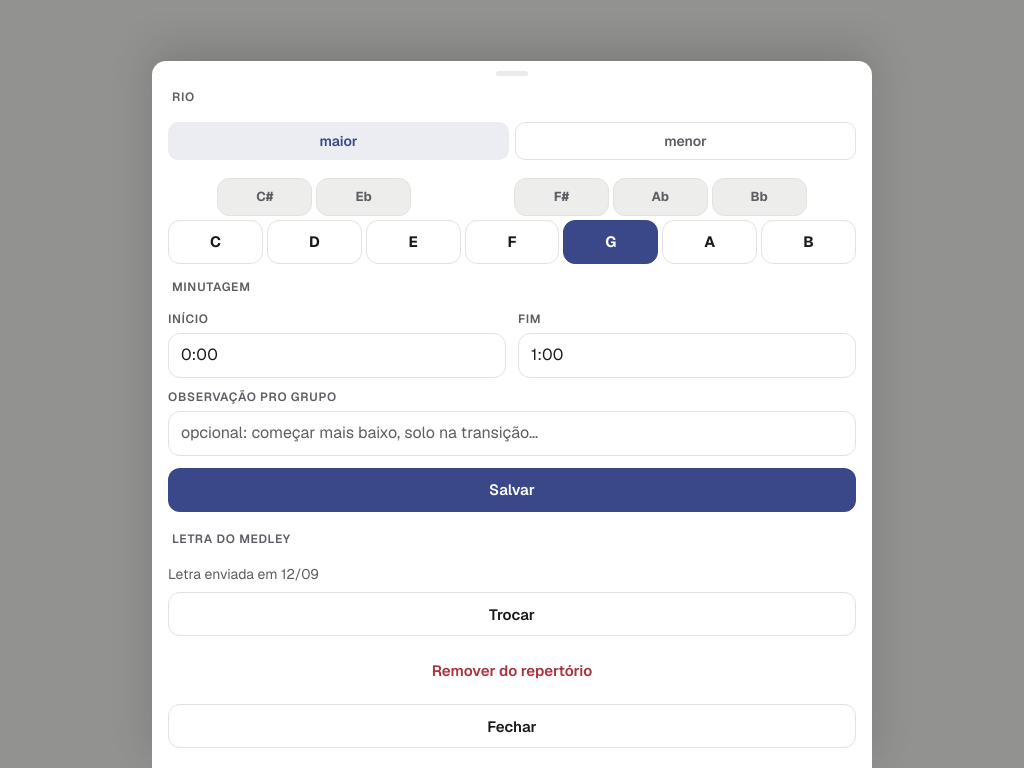
Test: FolhaDoItem › no Medley com anexo, mostra a versão e abre a folha da letra pra trocar
(page scrolled)
Expected: the text "Letra enviada em 12/09" is shown, [168, 565, 319, 583]
What coordinates should you click on to do the following:
click the button "Trocar"
I would click on:
 (512, 614)
Its box is [168, 592, 856, 636].
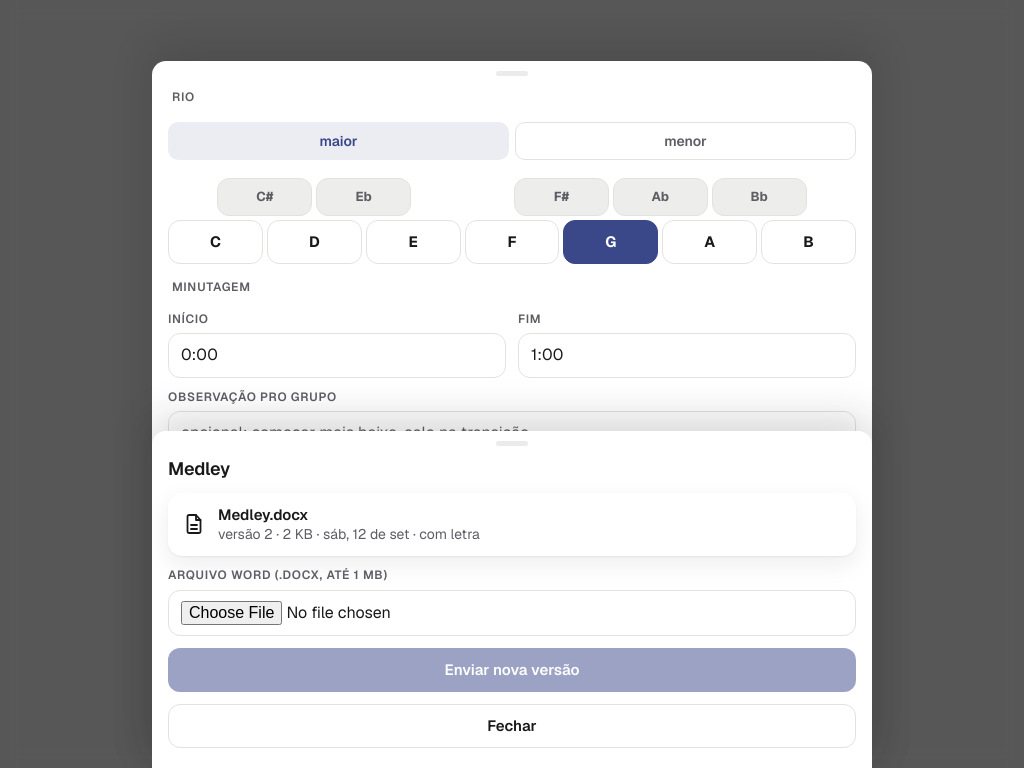
Expected: the button "Enviar nova versão" is shown, [168, 648, 856, 692]
